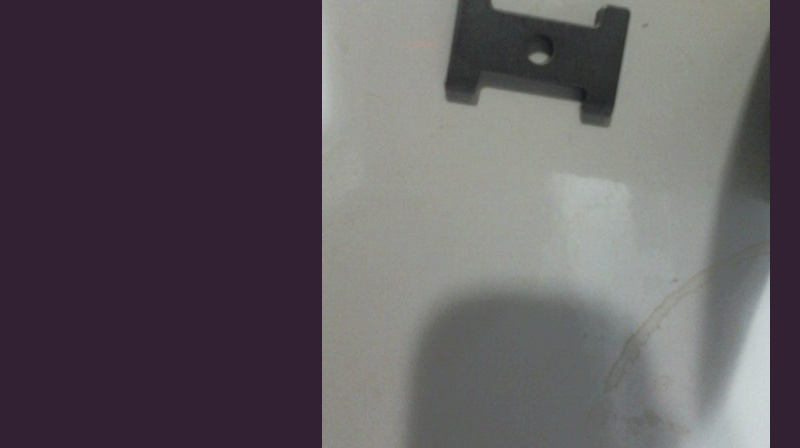O002: (443, 0, 634, 117)
